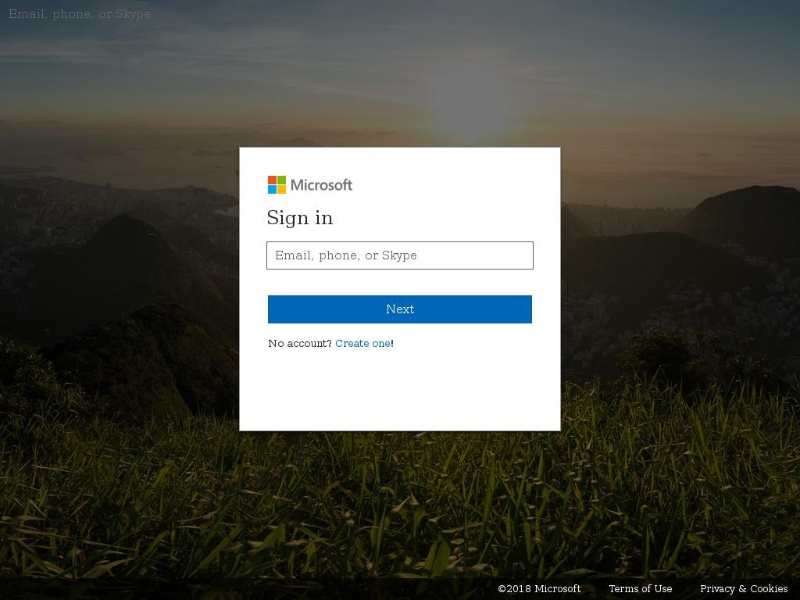msft: (251, 166, 377, 199)
